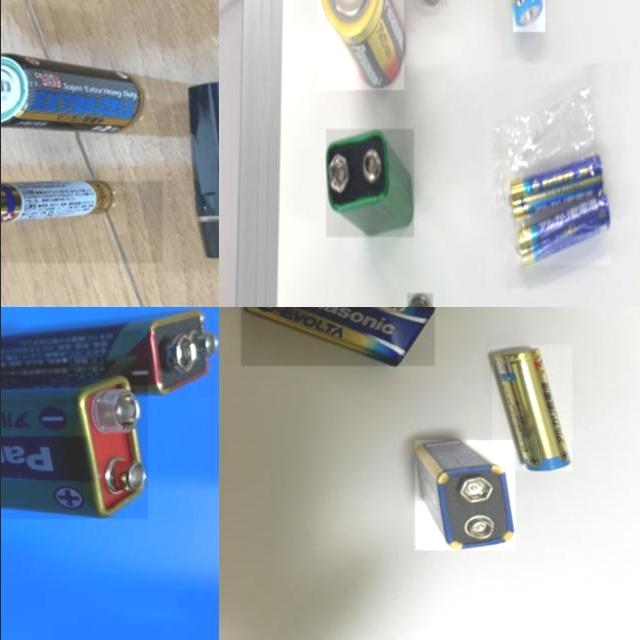9V: (0, 374, 147, 519), (0, 309, 216, 396), (241, 307, 434, 366), (413, 441, 514, 551), (325, 130, 413, 238)
